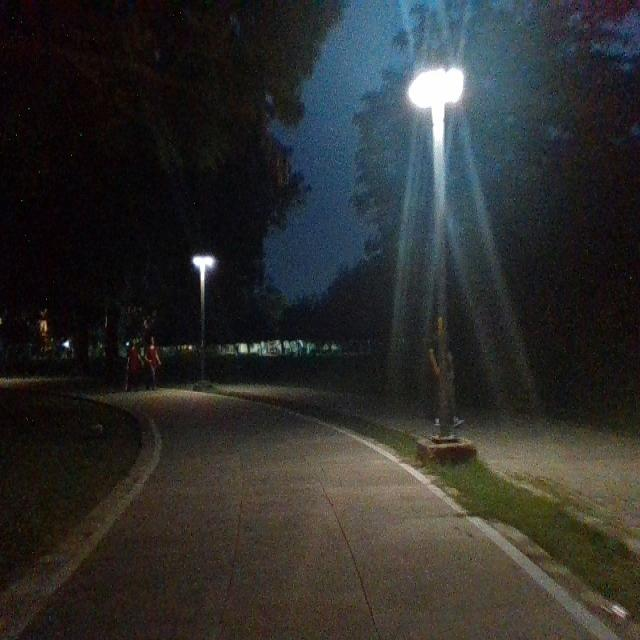lane: (25, 390, 596, 635)
